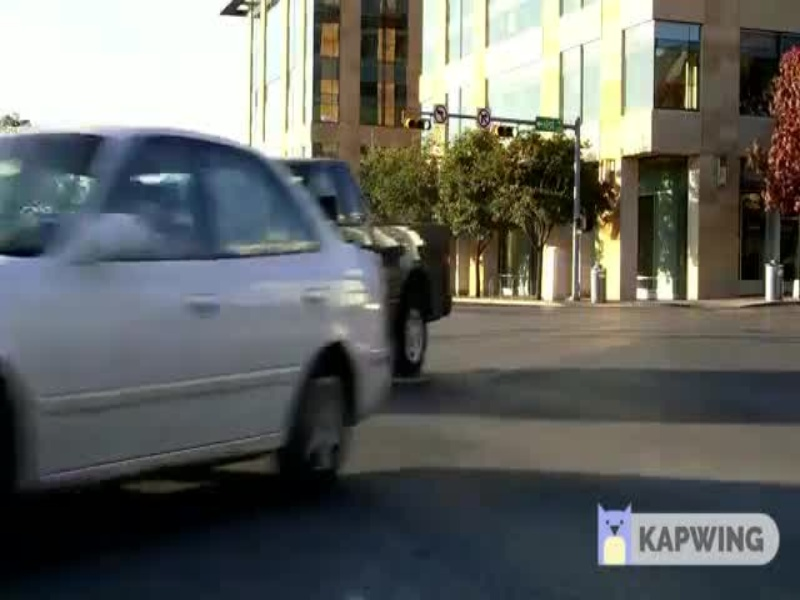car: (1, 120, 393, 522)
